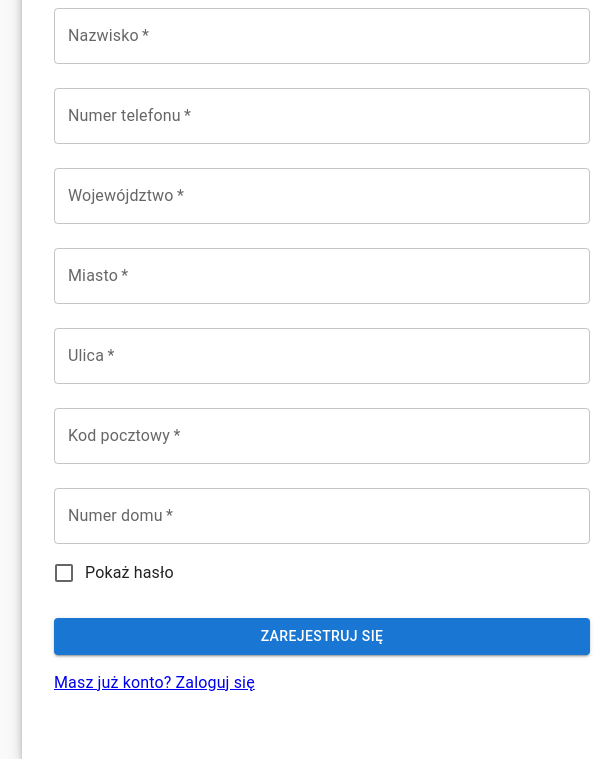
Register › displays error messages on form submit with empty fields
The width and height of the screenshot is (608, 759).
(page scrolled)
Click the button "Zarejestruj się" at {"x": 322, "y": 636}, box [54,618,590,654]
(page scrolled)
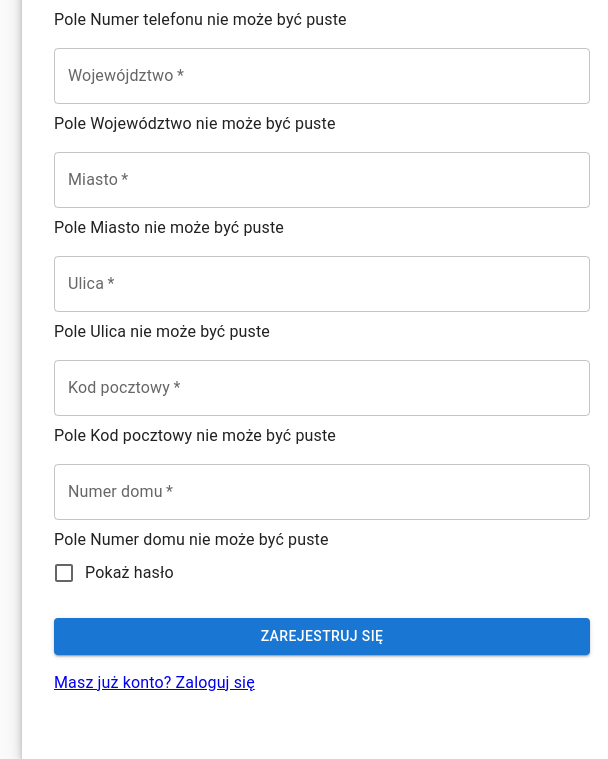
Result: the text "Pole Numer telefonu nie może być puste" is shown at [54,10,347,29]
Result: the text "Pole Województwo nie może być puste" is shown at [54,114,336,133]
Result: the text "Pole Miasto nie może być puste" is shown at [54,218,284,237]
